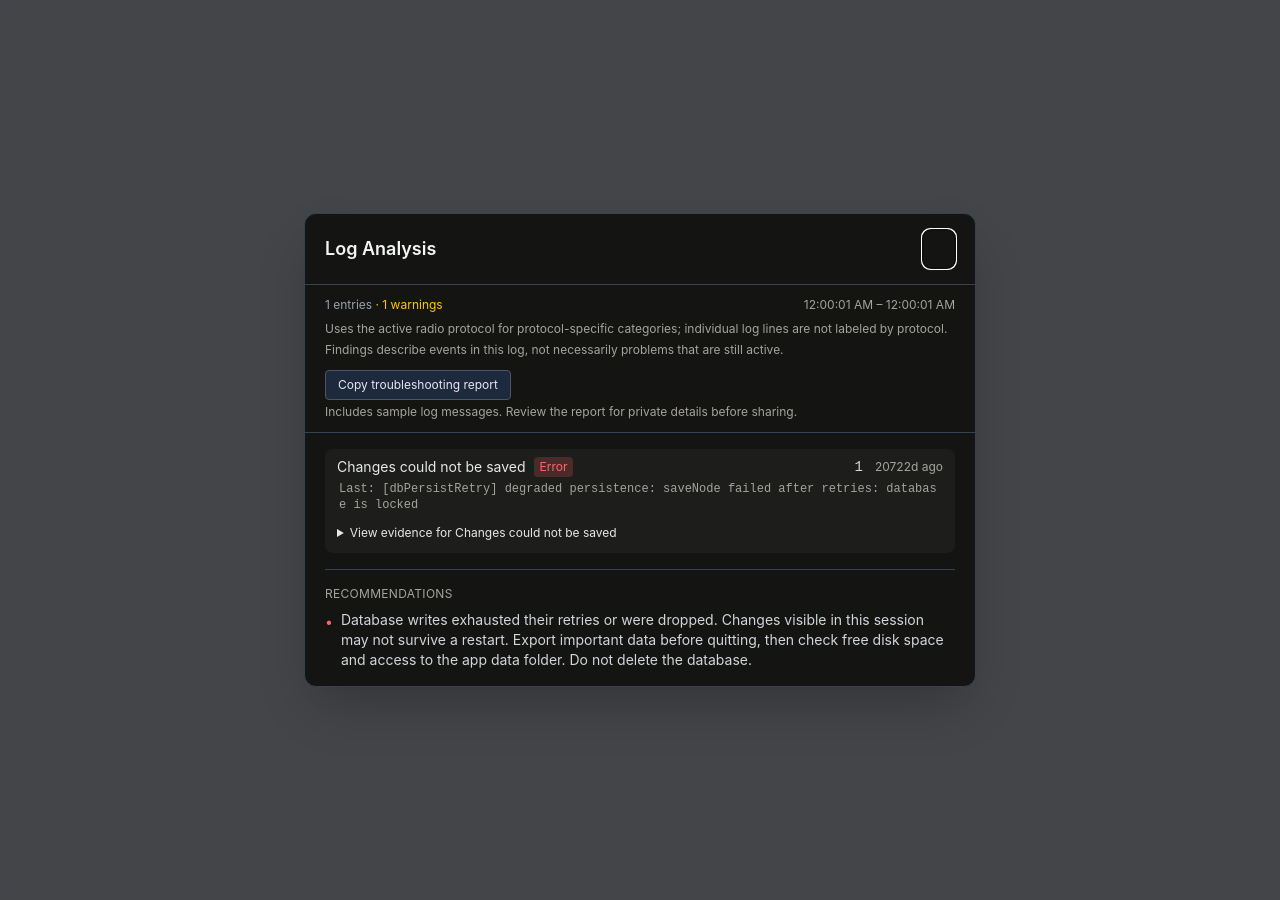
log analysis evidence and report › expands timestamped evidence and shows the specific recommendation
The image size is (1280, 900).
Expected: the text "Database writes exhausted their retries or were dropped. Changes visible in this session may not survive a restart. Expo" is shown, [341,611,944,668]
Click the heading "View evidence for Changes could not be saved" at (483, 532), box [350,525,617,540]
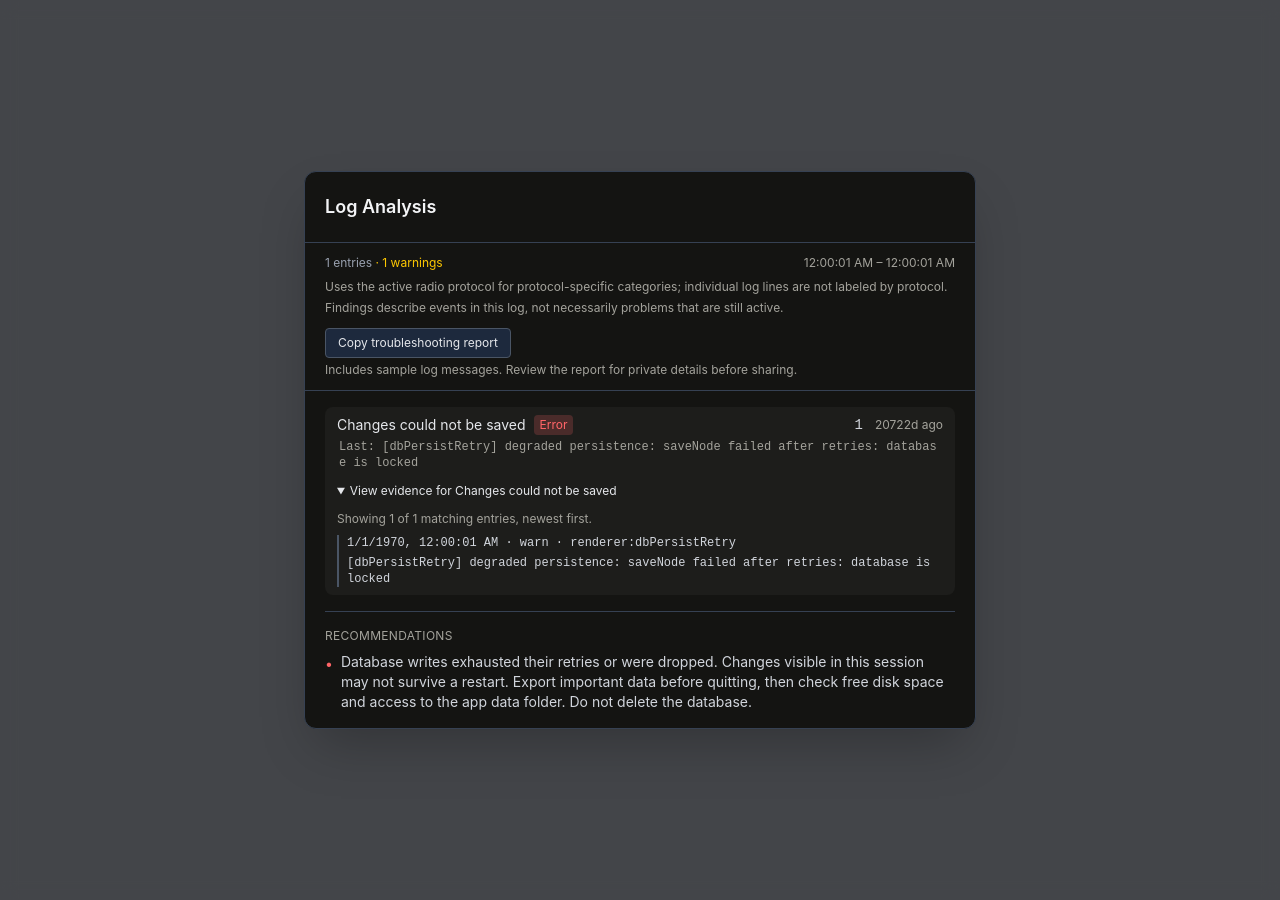
Expected: the text "[dbPersistRetry] degraded persistence: saveNode failed after retries: database is locked" is shown, [347,556,938,586]
Expected: the list named "View evidence for Changes could not be saved" shows "renderer:dbPersistRetry", [570,536,736,550]
